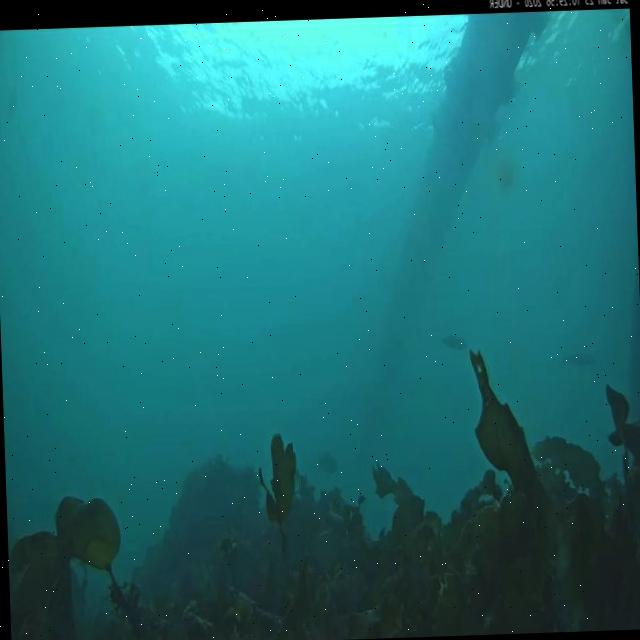fish: (314, 450, 338, 480), (556, 352, 600, 367), (441, 332, 466, 351)
